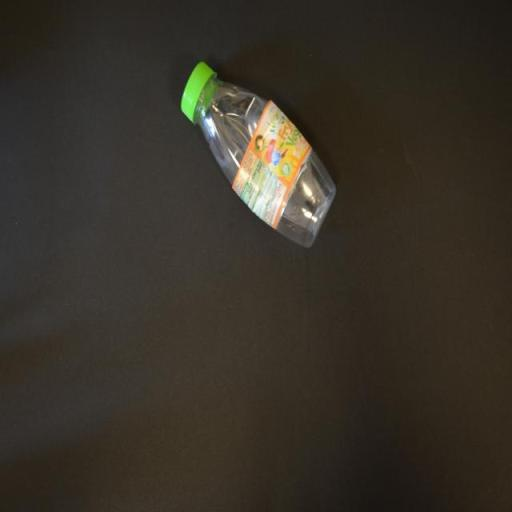plastic: (179, 60, 337, 250)
